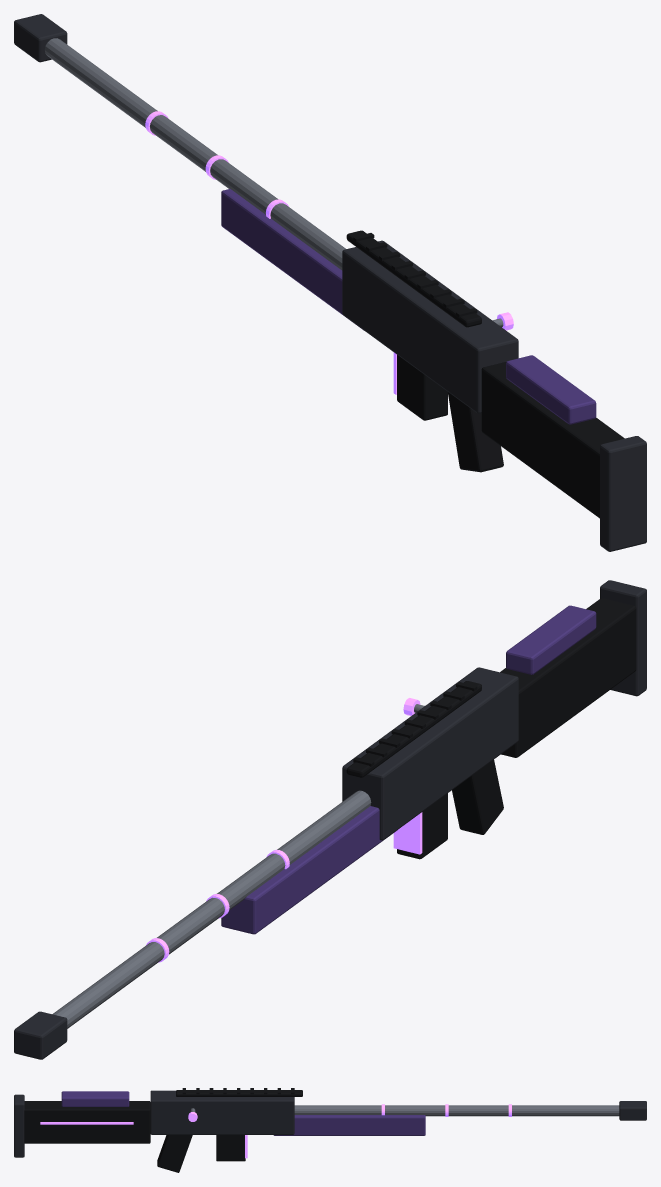
The model's file is sniper.glb.
3 views of the same model, one above another, from view 1: azimuth 30°, elevation 25°; view 2: azimuth 150°, elevation 25°; view 3: azimuth 270°, elevation 25° (orthographic). The views are drawn at different scales.
Visible parts, largest first — view 1: Body, Magazine; view 2: Body, Magazine; view 3: Body, Magazine.
Part boxes in pixels (x1,y1,x2,y2): Body: (14, 14, 646, 551); Magazine: (393, 352, 447, 420); Body: (14, 580, 646, 1059); Magazine: (393, 793, 447, 859); Body: (14, 1088, 646, 1172); Magazine: (216, 1135, 247, 1161).
Bounding box in the file's own units: 0.103 × 0.2076 × 1.5.
